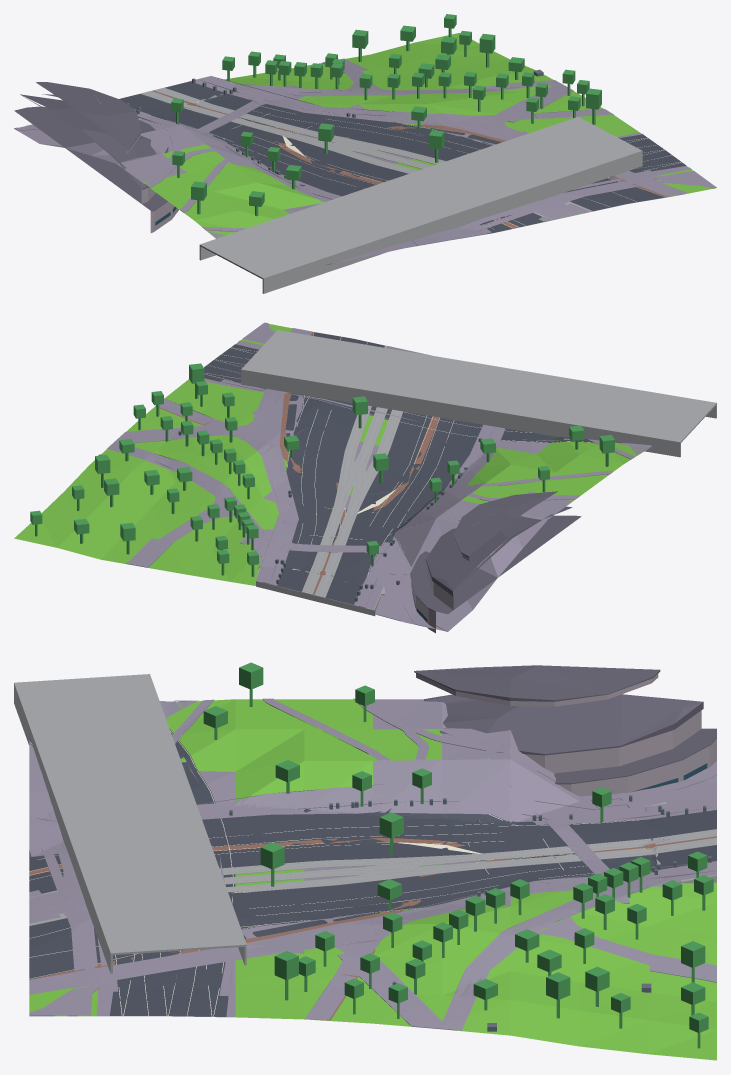
The picture shows the model from 3 angles, top to bottom: view 1: azimuth 30°, elevation 25°; view 2: azimuth 150°, elevation 25°; view 3: azimuth 270°, elevation 25°; orthographic projection. The views are drawn at different scales.
Visible parts, largest first — view 1: compiled-chunk; view 2: compiled-chunk; view 3: compiled-chunk.
Boxes of the visible parts, left/top/right/bottom form: compiled-chunk: left=14, top=14, right=716, bottom=293; compiled-chunk: left=14, top=322, right=716, bottom=633; compiled-chunk: left=14, top=662, right=716, bottom=1060.
Size of the model in its own units: 127 by 21.03 by 123.
